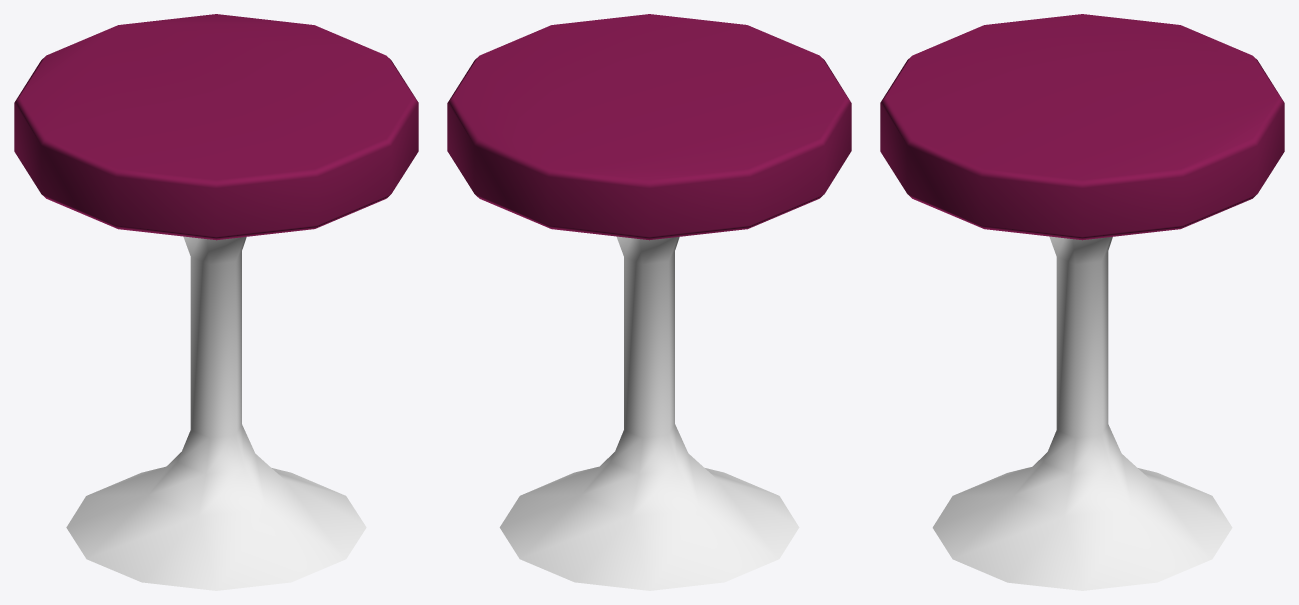
The model's file is chair_025.fbx.
3 renders of one model, left to right at view 1: azimuth 30°, elevation 25°; view 2: azimuth 150°, elevation 25°; view 3: azimuth 270°, elevation 25°, orthographic.
Parts seen in each view (by area): view 1: chair_025; view 2: chair_025; view 3: chair_025.
Part boxes in pixels (box(x1,y1,x2,y2)): chair_025: box(14, 14, 418, 590); chair_025: box(447, 14, 851, 590); chair_025: box(880, 14, 1284, 590).
Bounding box in the file's own units: 60.4 × 60.42 × 70.95.
